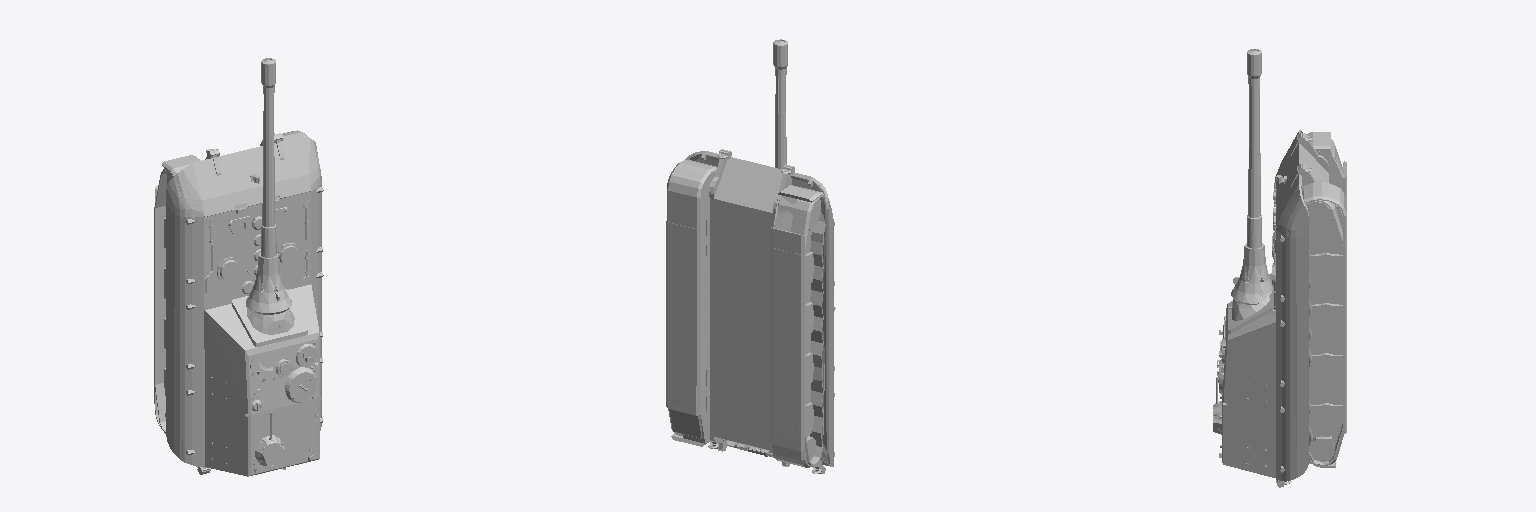
Rendered from JagdPzE10022.obj.
3 views of the same model, side by side, from view 1: azimuth 30°, elevation 25°; view 2: azimuth 150°, elevation 25°; view 3: azimuth 270°, elevation 25° (orthographic).
Bounding box in the file's own units: 4.48 × 11.62 × 3.45.